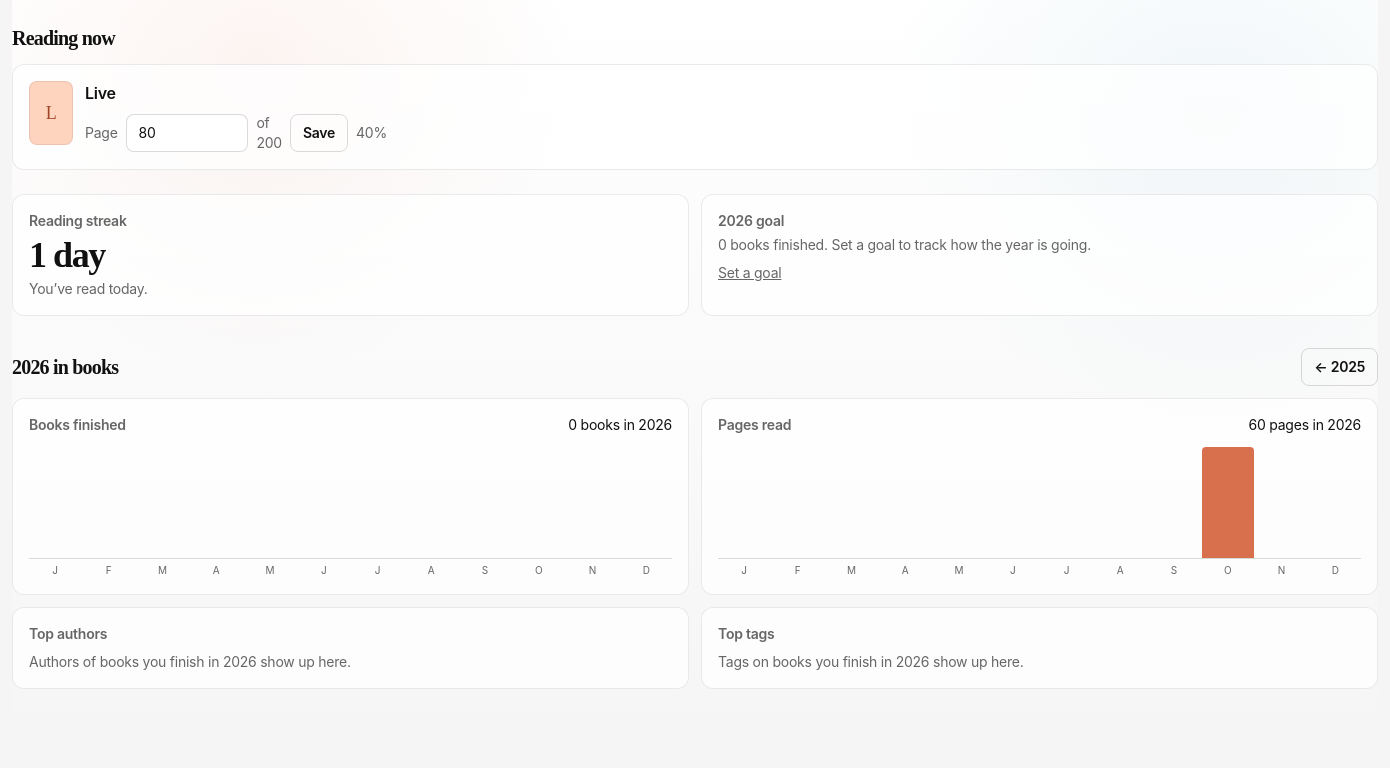
Test case: refreshes untouched progress and rejects a conflicting draft
Replace the text in the number field with "90" at {"x": 187, "y": 133}, box left=126, top=114, right=248, bottom=152
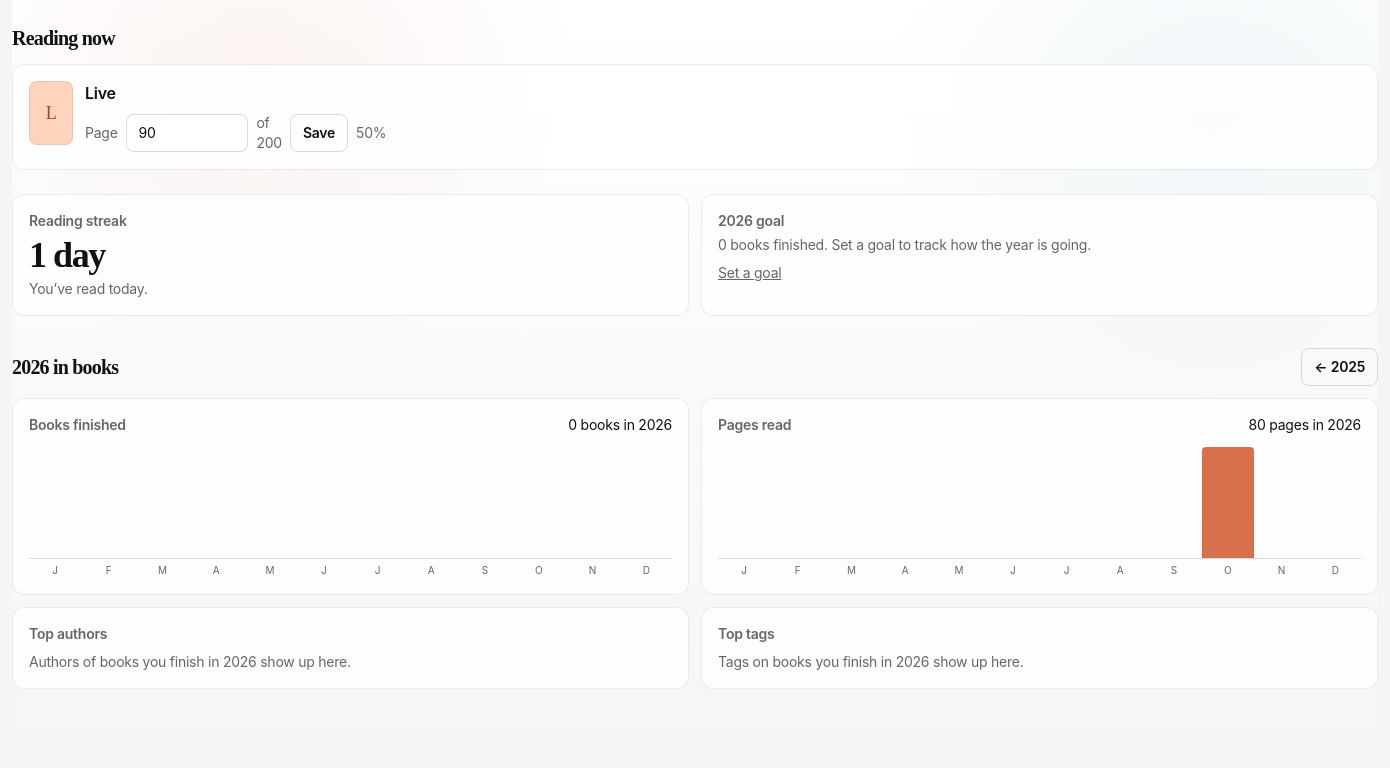
Now the text "50%" is shown, box left=356, top=123, right=386, bottom=143
Click the button "Save" at {"x": 319, "y": 133}, box left=290, top=114, right=348, bottom=152
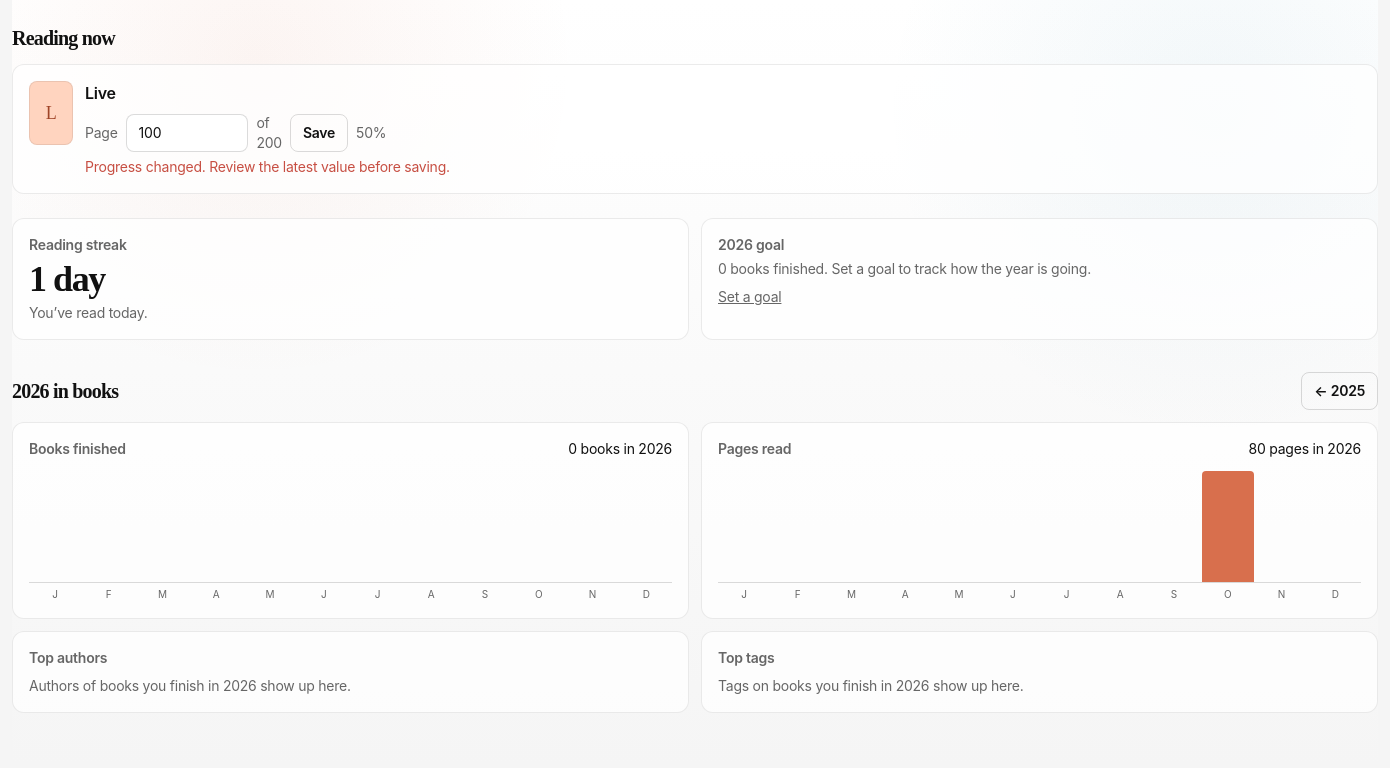
Now the message "Progress changed. Review the latest value before saving." is shown, box left=85, top=158, right=450, bottom=175
